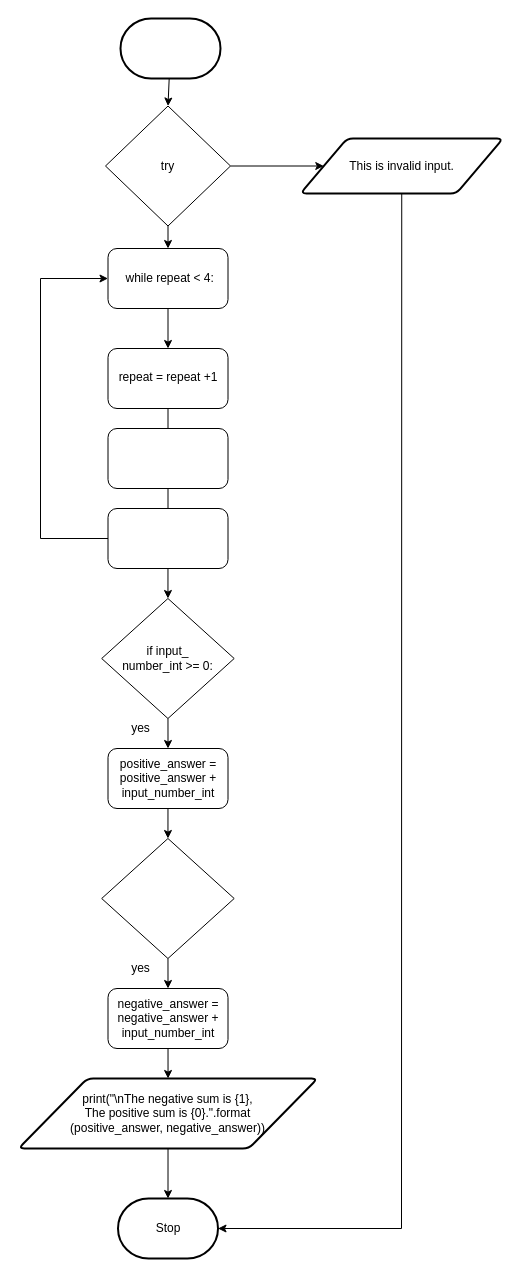
This 521x1276 diagram has some shape labels left out. Each missing label, with the centre of its shape:
convert string to int: the point at 167,538
if input_ number_int < 0:: the point at 167,898
input_number = input ("Enter an integer: "): the point at 167,458
Start: the point at 170,48
